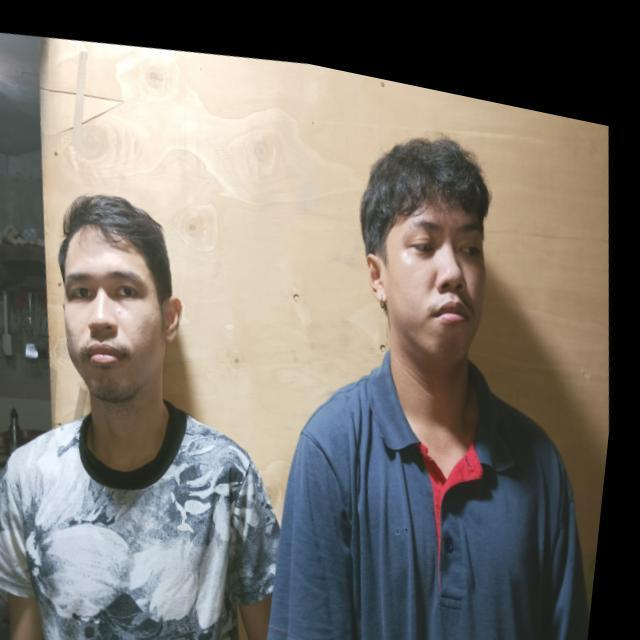Nonhelmet: (54, 191, 183, 405), (357, 134, 492, 261), (55, 192, 174, 305)
